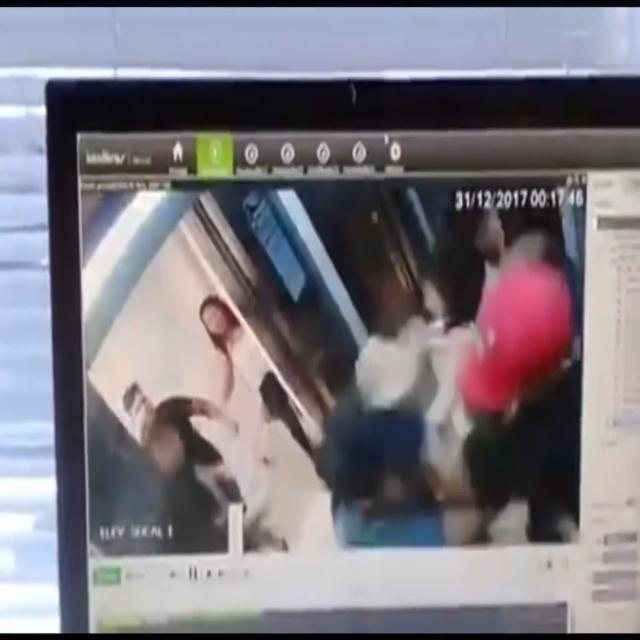fight: (279, 299, 586, 532)
